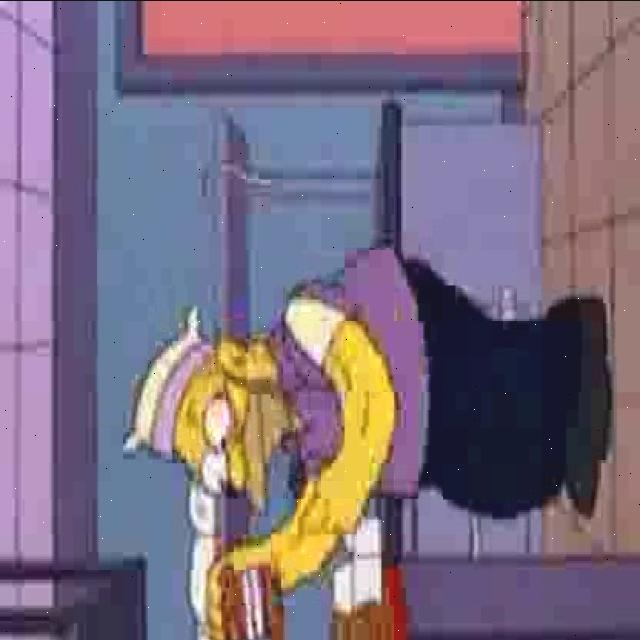Abraham Grampa Simpson: (170, 328, 292, 516)
